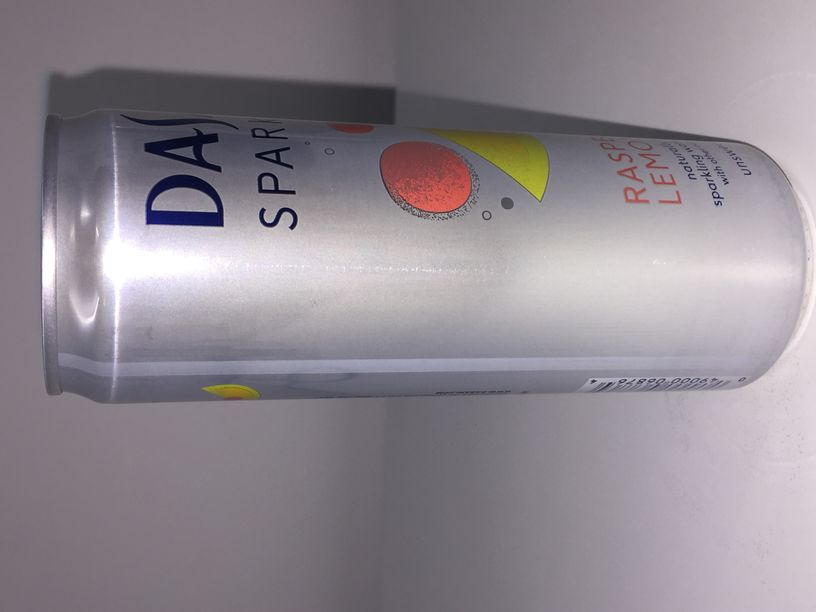lemonade: (39, 107, 811, 404)
